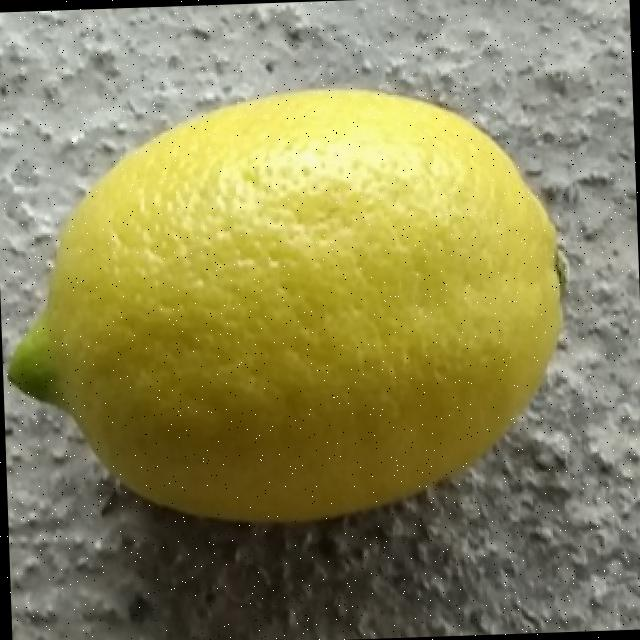Lemon: (0, 76, 579, 537)
